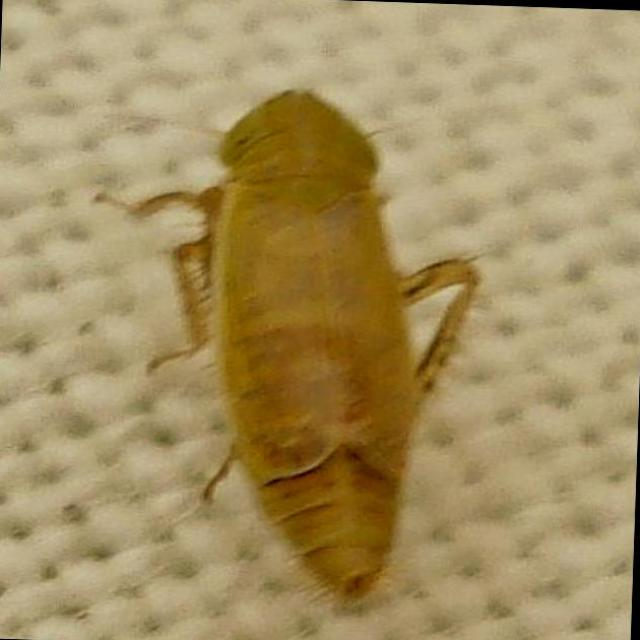green leaf hopper: (95, 90, 478, 600)
